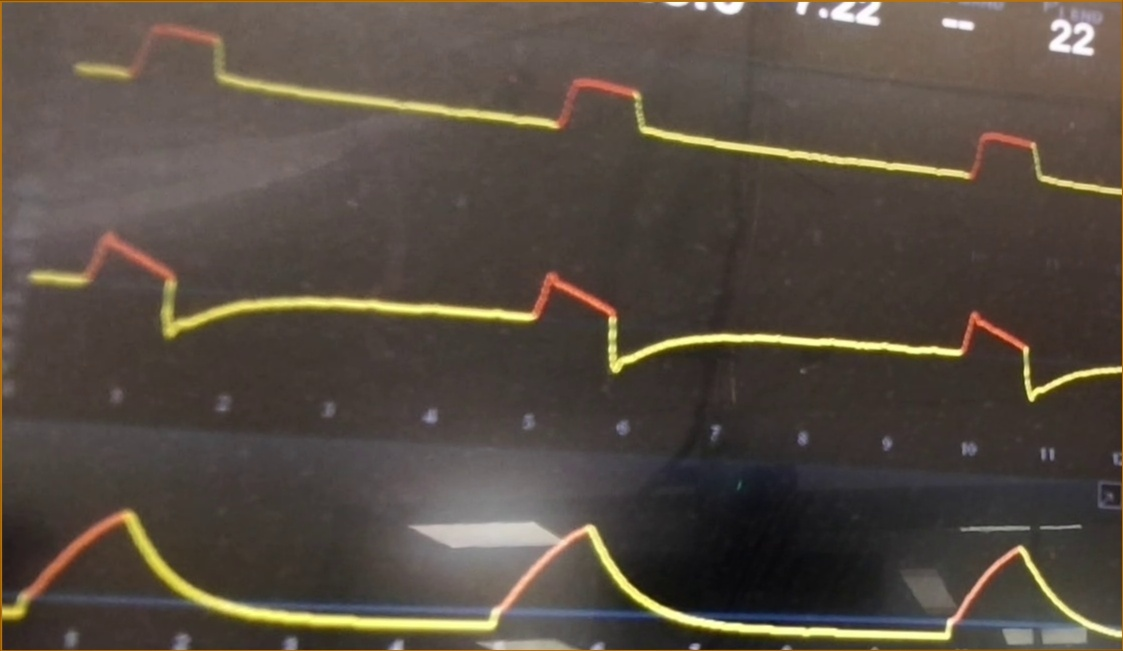Normal Flow: (29, 215, 1123, 406)
Normal Volume: (2, 489, 1120, 647)
